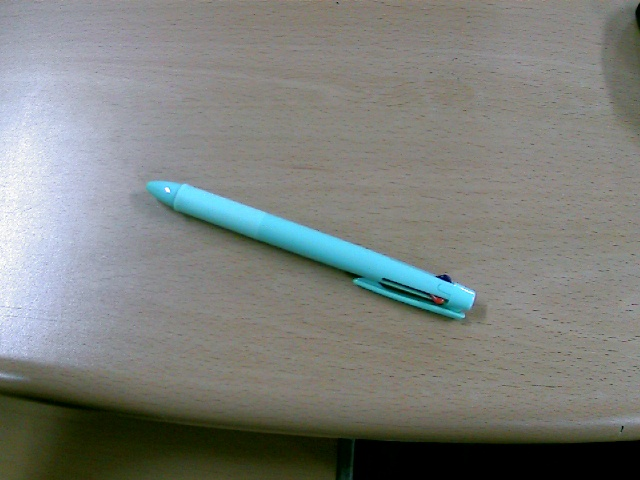pen: (147, 180, 478, 324)
